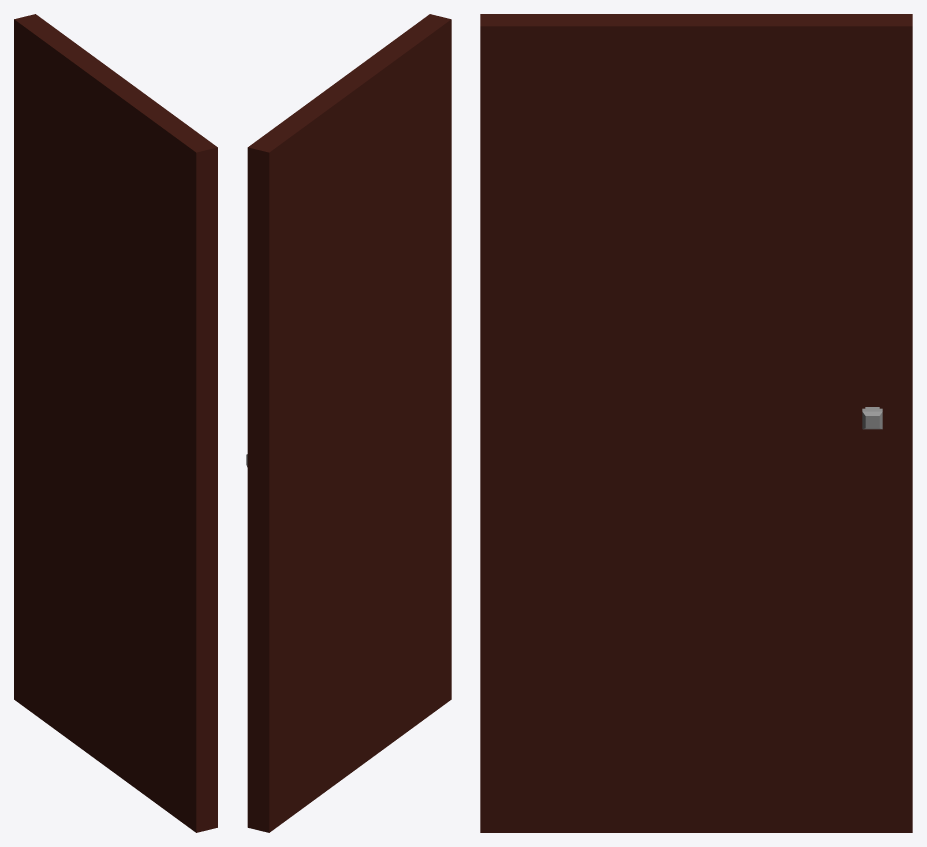
Rendered from Door.fbx.
The picture shows the model from 3 angles, left to right: view 1: azimuth 30°, elevation 25°; view 2: azimuth 150°, elevation 25°; view 3: azimuth 270°, elevation 25°; orthographic projection. The views are drawn at different scales.
Visible parts, largest first — view 1: Roor; view 2: Roor; view 3: Roor.
Part boxes in pixels (left/top/right/bottom): Roor: left=14, top=14, right=217, bottom=832; Roor: left=246, top=14, right=451, bottom=832; Roor: left=480, top=14, right=912, bottom=832.
Bounding box in the file's own units: 19.12 × 338 × 164.
